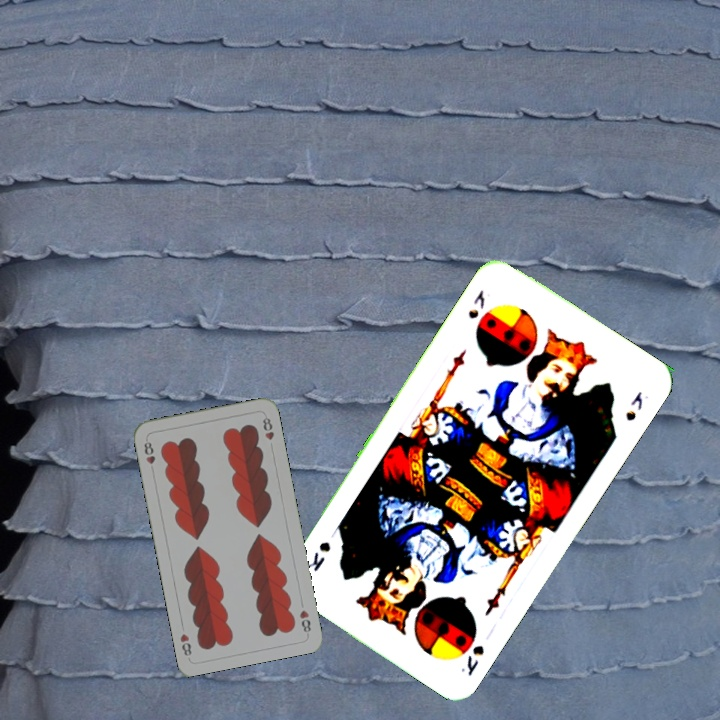H8: (140, 435, 158, 475), (295, 606, 313, 637)
SK: (456, 641, 487, 679), (464, 285, 488, 322)
